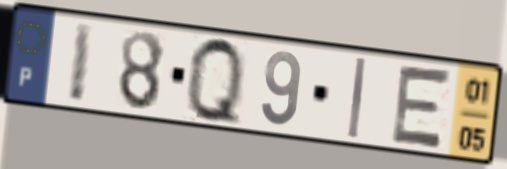8: (116, 29, 166, 113)
9: (259, 48, 304, 130)
E: (387, 62, 456, 152)
I: (65, 19, 97, 106), (345, 54, 369, 142)
Q: (186, 33, 246, 132)
